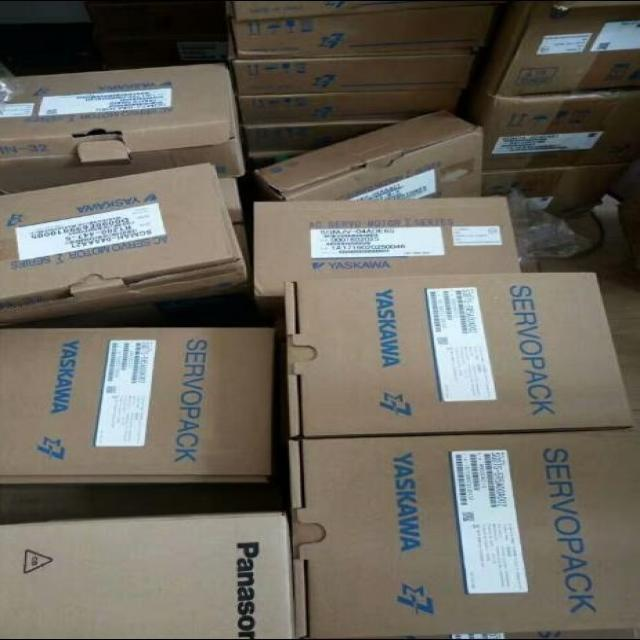box: (290, 430, 640, 640), (285, 272, 636, 437), (0, 327, 275, 484), (0, 162, 249, 328), (0, 510, 293, 640), (254, 197, 523, 320), (0, 62, 246, 195), (254, 109, 485, 202), (452, 84, 640, 172), (470, 0, 640, 97), (229, 37, 476, 96), (232, 6, 495, 56), (239, 87, 463, 122), (484, 165, 626, 220), (229, 0, 495, 21), (243, 119, 405, 151)
